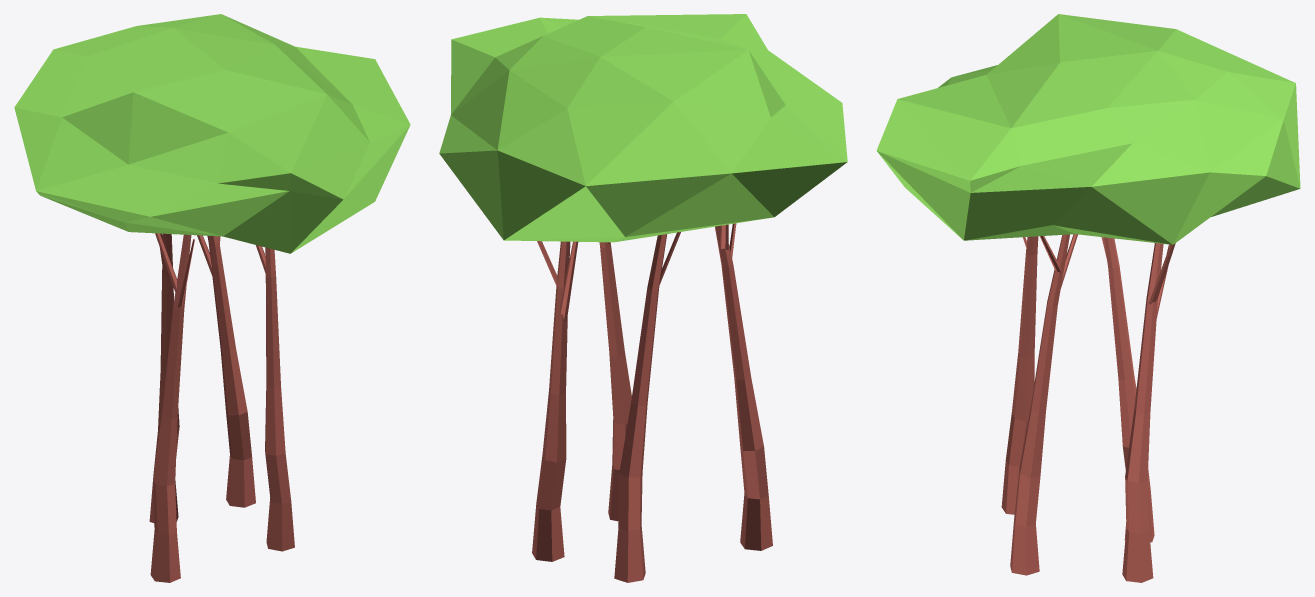
Rendered from Bush1_summer.FBX.
The picture shows the model from 3 angles, left to right: view 1: azimuth 30°, elevation 25°; view 2: azimuth 150°, elevation 25°; view 3: azimuth 270°, elevation 25°; orthographic projection. The views are drawn at different scales.
Parts seen in each view (by area): view 1: bush; view 2: bush; view 3: bush.
Part boxes in pixels (x1,y1,x2,y2): bush: (14,14,410,582); bush: (439,14,847,582); bush: (876,14,1300,582).
Bounding box in the file's own units: 1.46 × 1.9 × 1.47.
